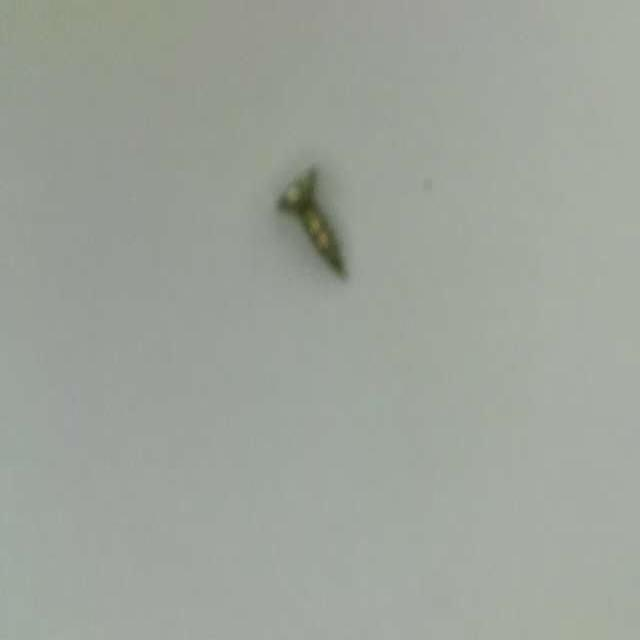Parafuso: (278, 169, 344, 273)
